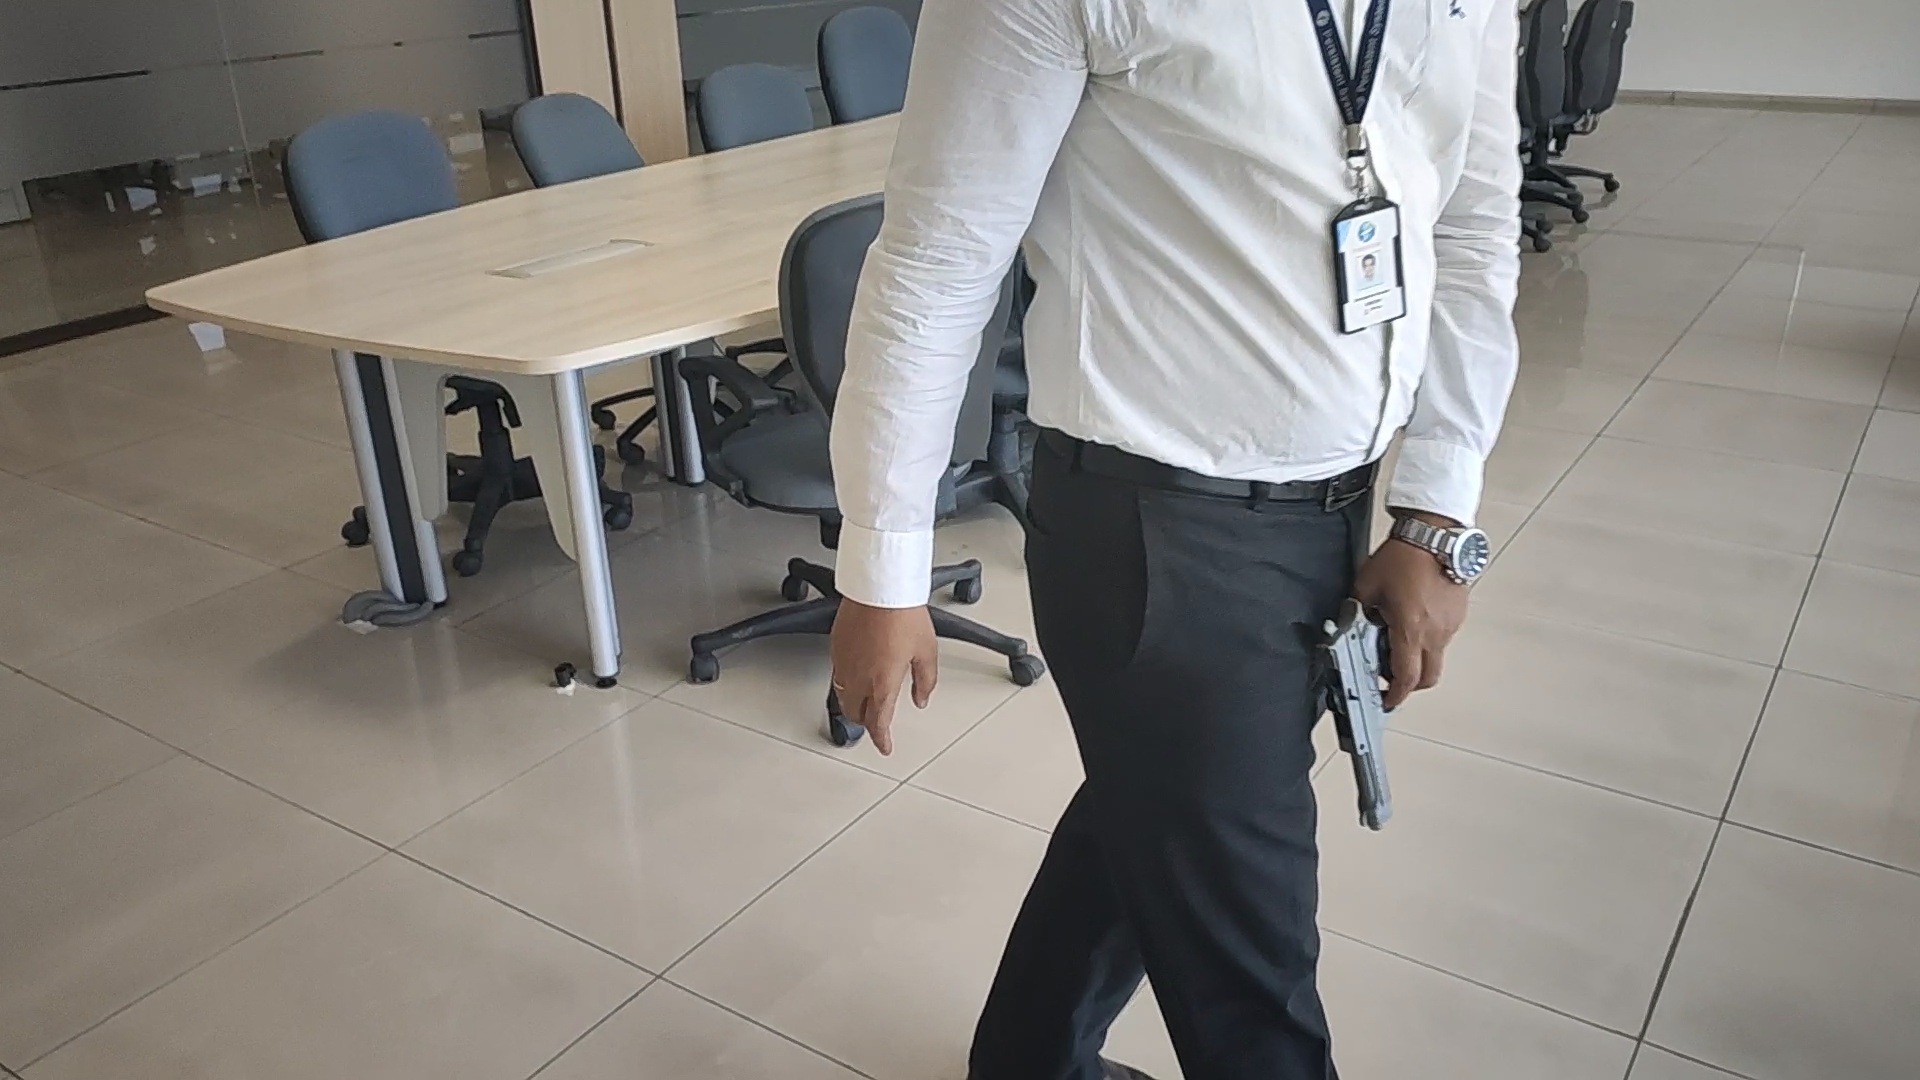gun: (1312, 597, 1399, 831)
